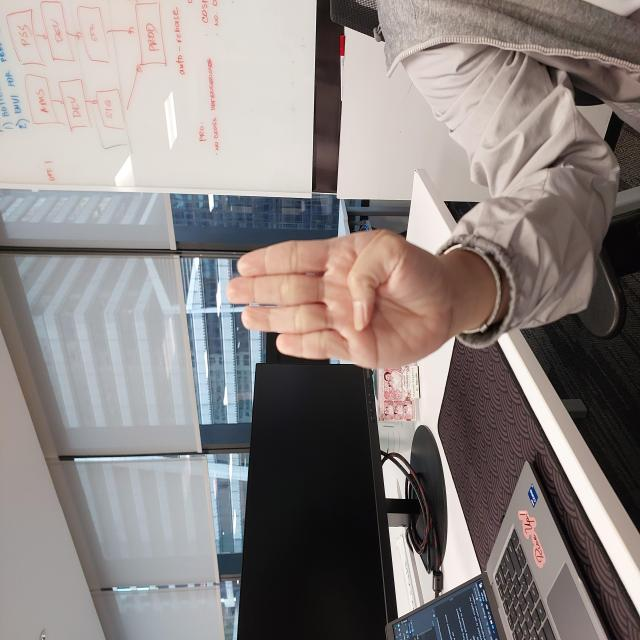B: (271, 225, 413, 452)
